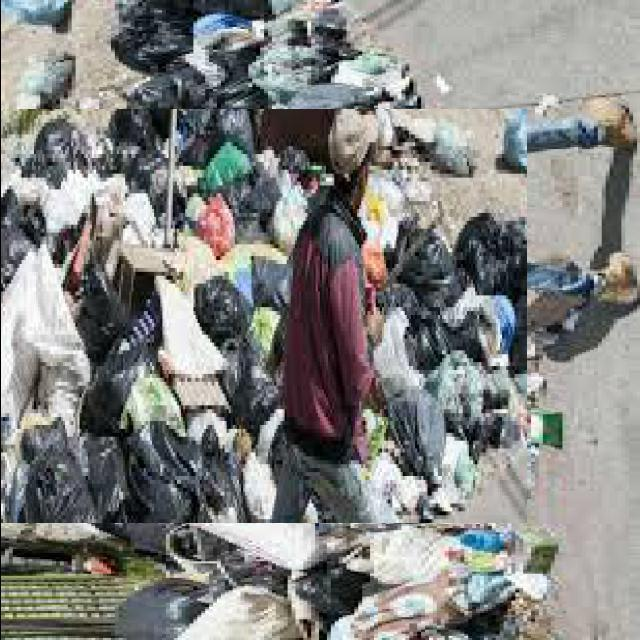Trashbag: (17, 421, 126, 538), (125, 424, 242, 524), (76, 356, 154, 439), (449, 212, 526, 289), (394, 223, 467, 290), (408, 304, 473, 376), (198, 278, 252, 348), (230, 346, 283, 416), (0, 198, 46, 278), (28, 127, 88, 188), (232, 176, 281, 243), (250, 254, 304, 308), (197, 109, 260, 152), (108, 106, 156, 142)
